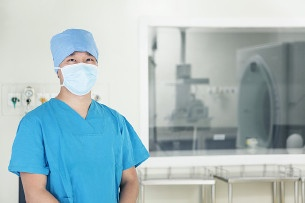Mask: (58, 51, 101, 95)
